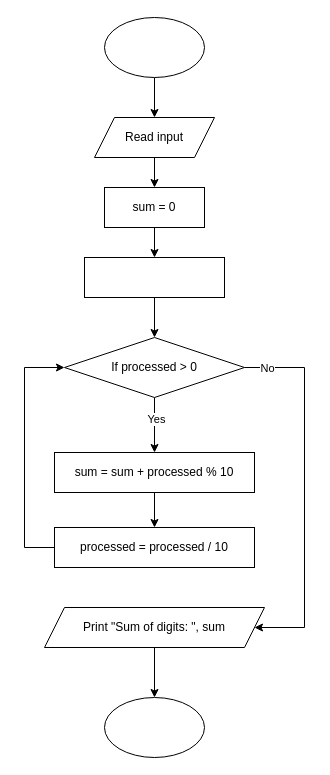
Some shapes in this 330 by 775 pixel diagram are drawn without their labels. The centre of each missing label's shape, as x and y in pixels:
End: the point at 154,727
processed = input: the point at 154,277
Start: the point at 154,47
